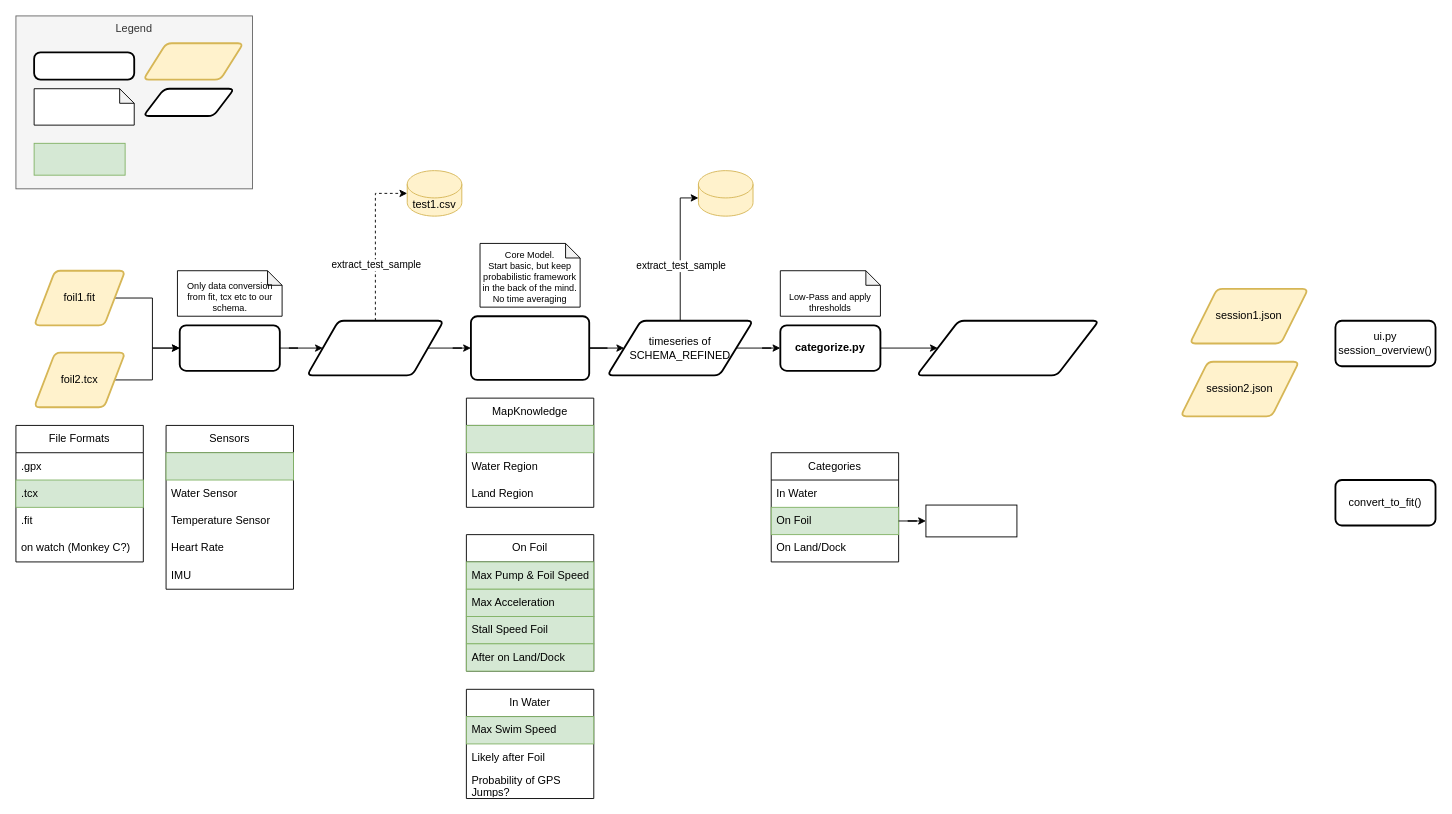
This 1452x814 diagram has some shape labels left out. The shapes that lost their labels are listed below. From the top down, each one's centre as x and y in pixels, then its label:
At pixel 84 65: "module".
At pixel 193 61: "persistent data".
At pixel 83 106: "High Level Comment".
At pixel 188 101: "data".
At pixel 79 158: "Scope of v1".
At pixel 725 193: "test2 .csv".
At pixel 229 347: "parse.py".
At pixel 375 347: "timeseries of SCHEMA_RAW".
At pixel 530 347: "refine.py reject_outliers() smooth_gps_jumps()".
At pixel 1007 347: "timeseries of SCHEMA_CLASSIFIED".
At pixel 529 439: "Start Locations".
At pixel 229 466: "GPS".
At pixel 971 520: "Start , Pump, Surf, Fall".
